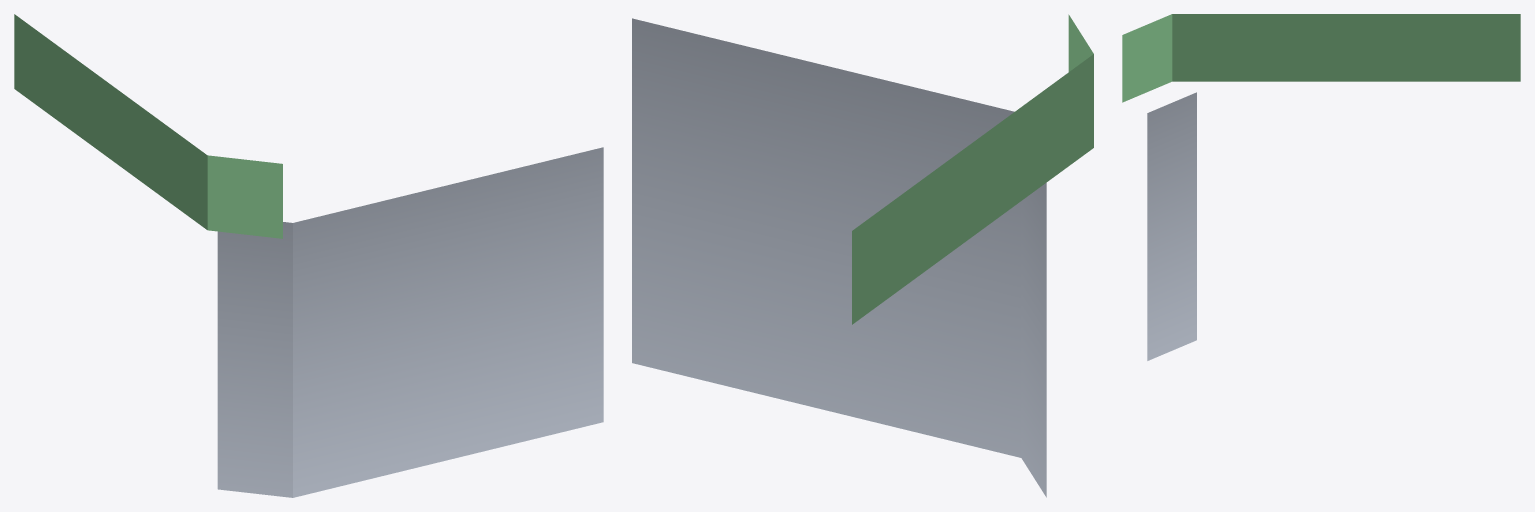
3 views of the same model, side by side, from view 1: azimuth 30°, elevation 25°; view 2: azimuth 150°, elevation 25°; view 3: azimuth 270°, elevation 25° (orthographic). The views are drawn at different scales.
Bounding box in the file's own units: 1 × 0.875 × 1.
1 material, 1 textured.
